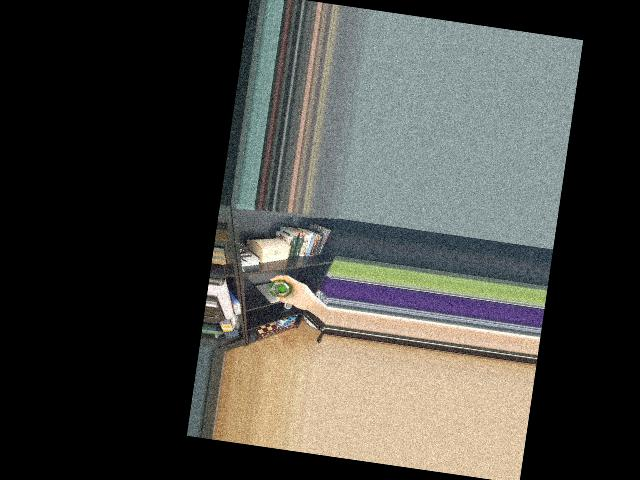beer: (269, 278, 292, 299)
